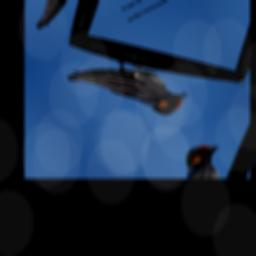Swallow: (65, 32, 193, 148)
